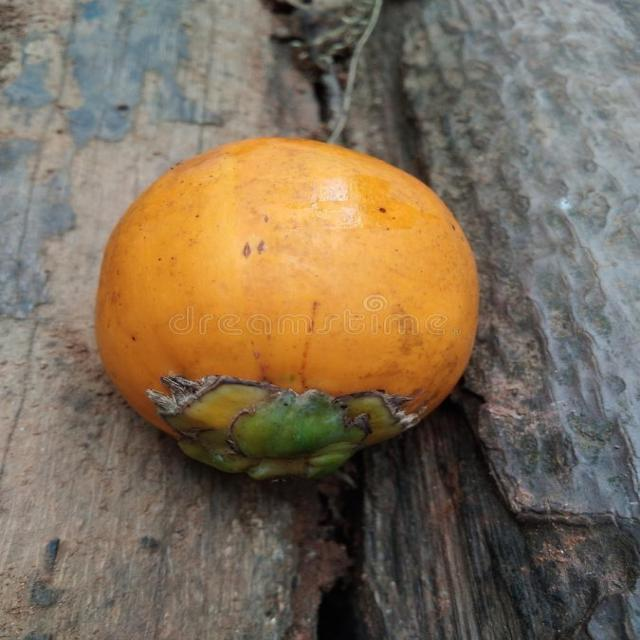good: (93, 137, 480, 482)
